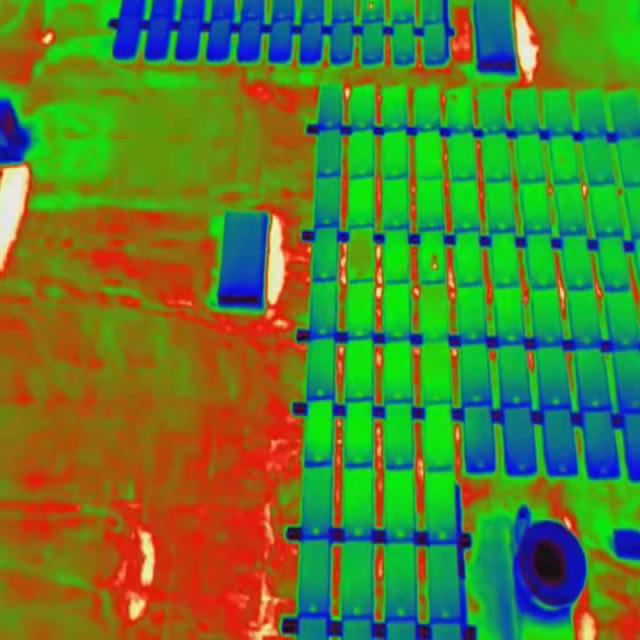Orange-Spots: (431, 254, 439, 271)
